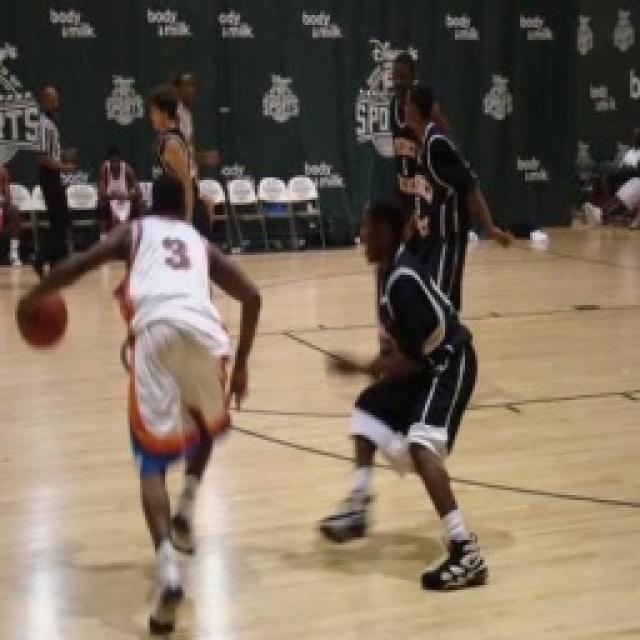rim: (12, 284, 78, 352)
